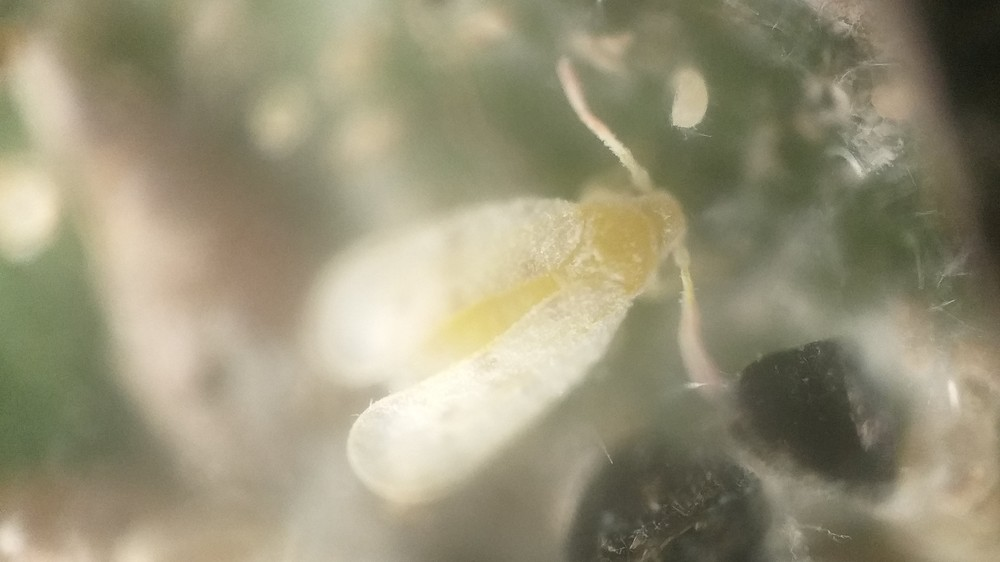Mosca Blanca: (291, 56, 756, 521)
